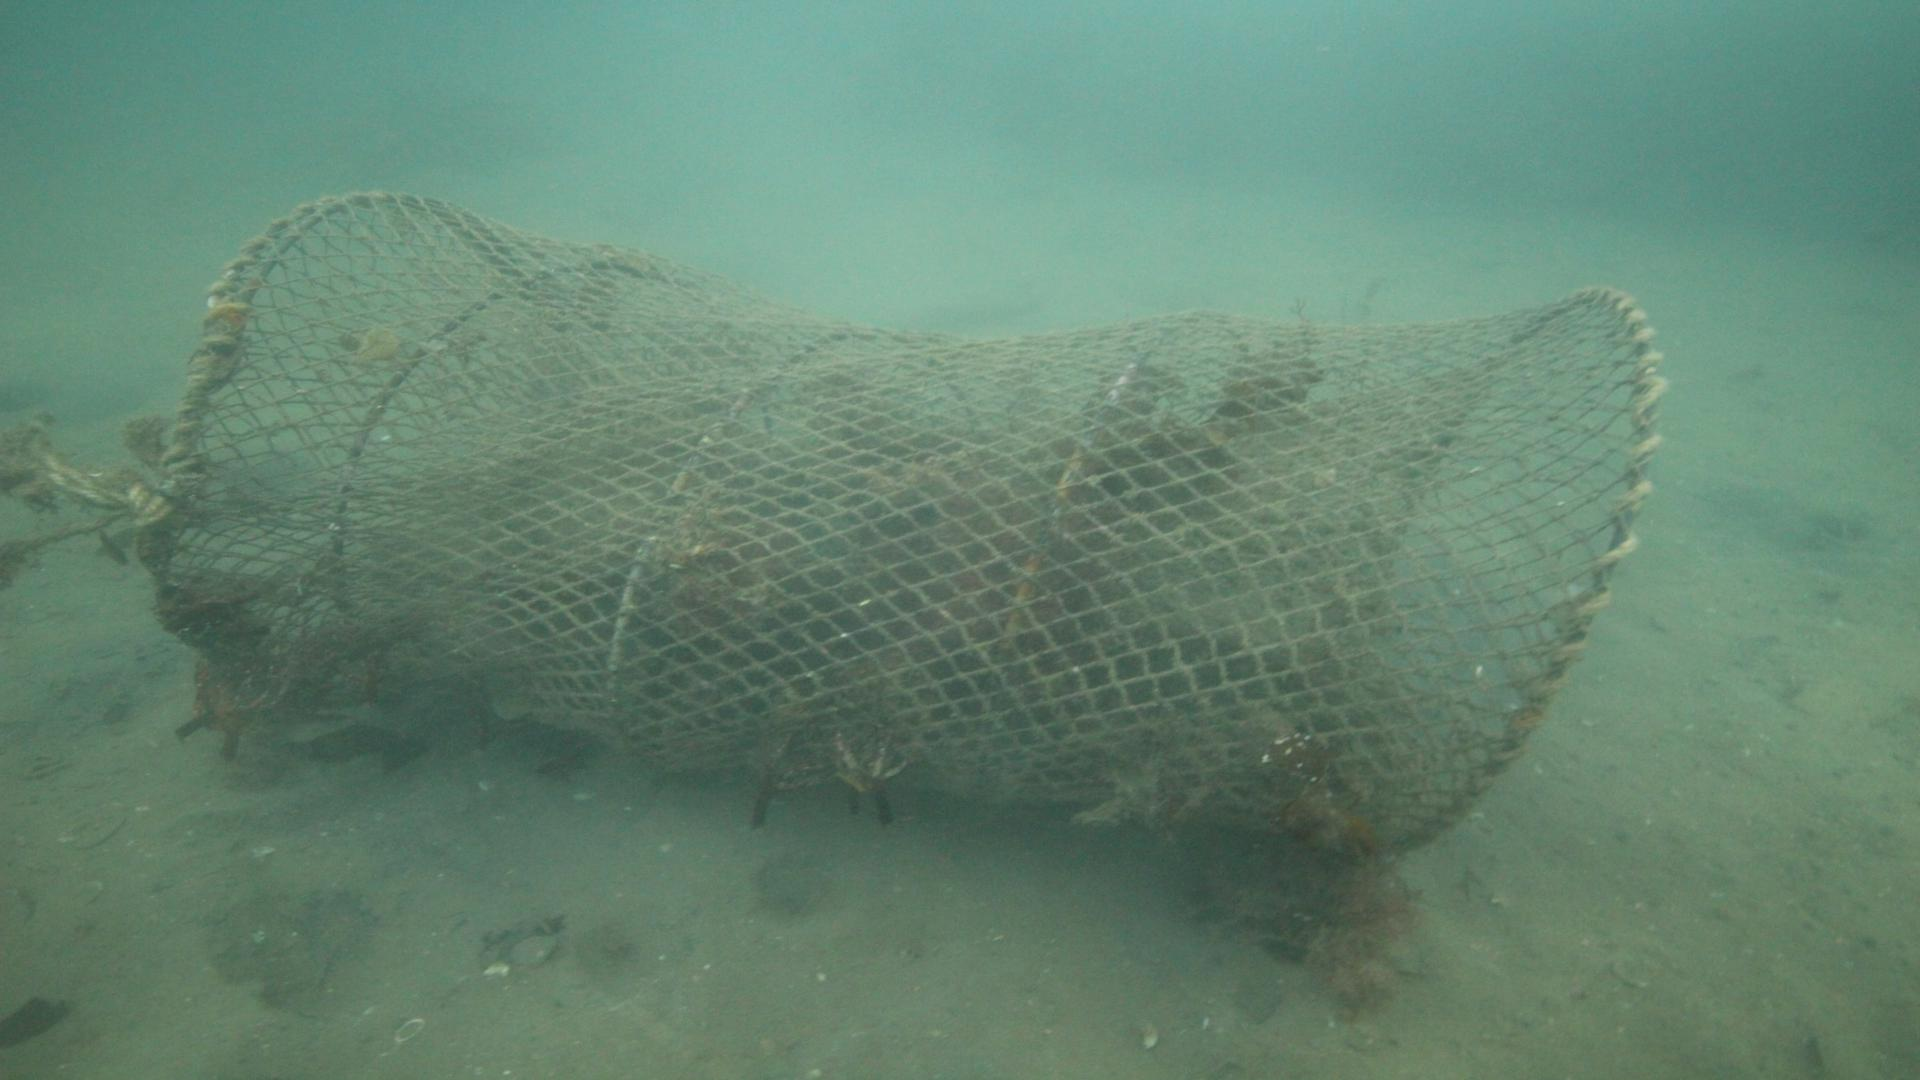spring fish trap: (148, 187, 1672, 860)
